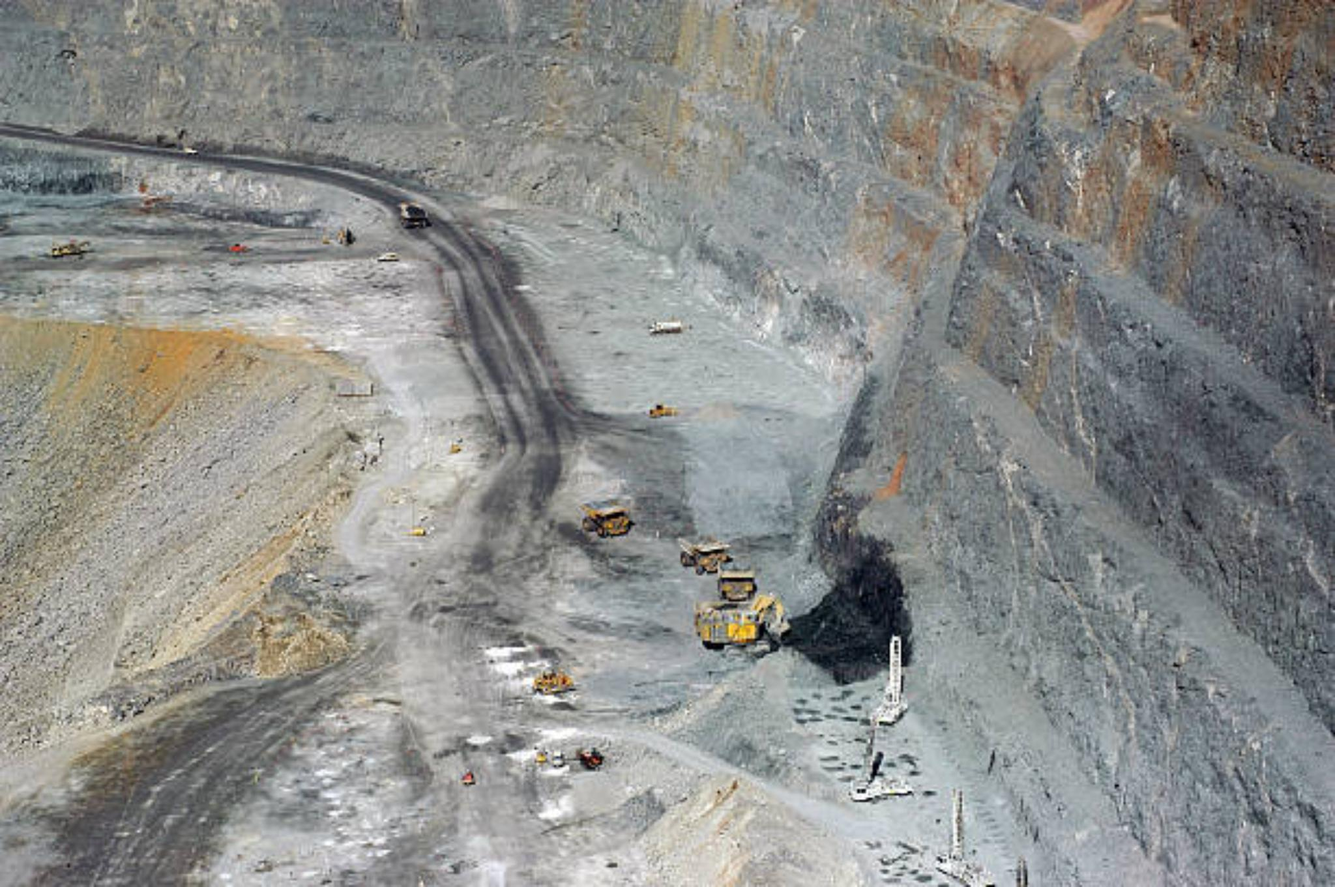truck: (580, 484, 636, 538), (678, 531, 732, 564)
wall: (0, 0, 1333, 885)
